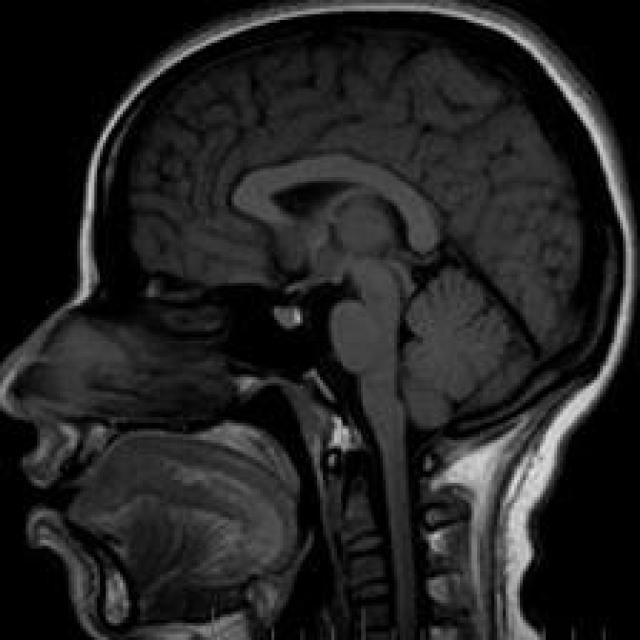no_tumor: (74, 7, 640, 496)
